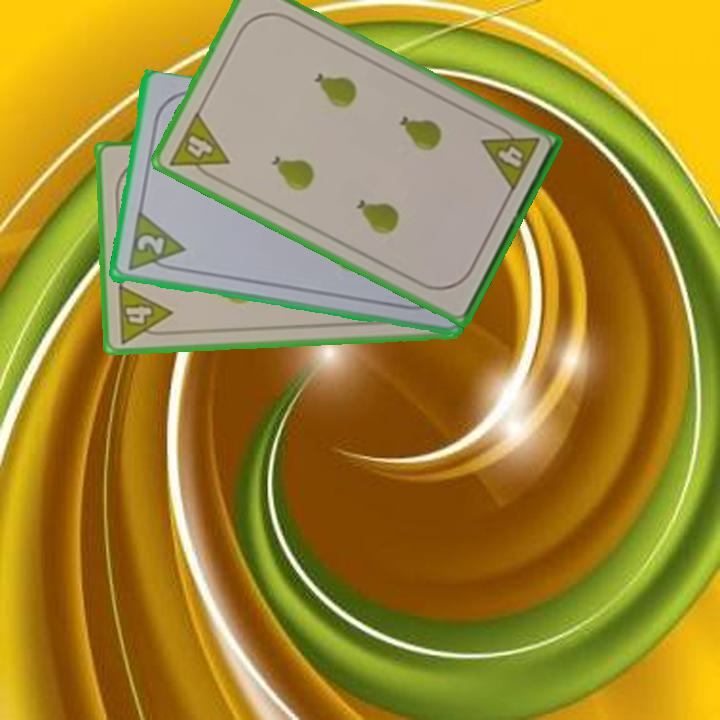2p: (133, 231, 167, 258)
4p: (165, 108, 232, 186), (478, 119, 542, 195), (113, 281, 175, 346)
